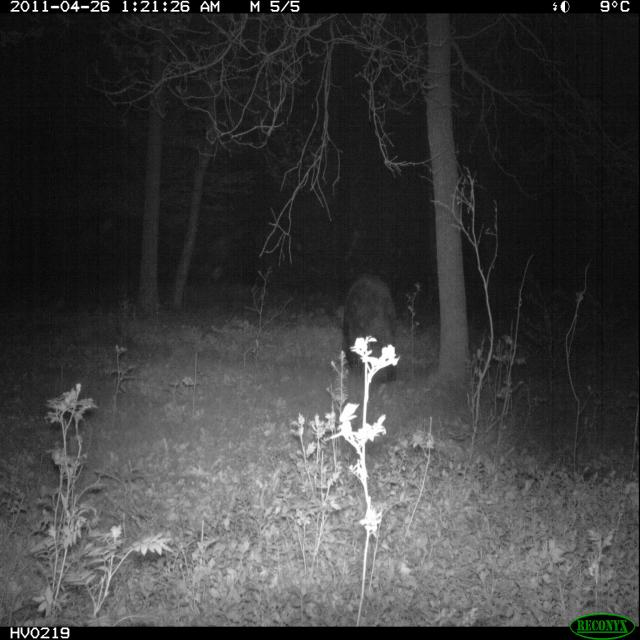boar: (311, 244, 423, 416)
